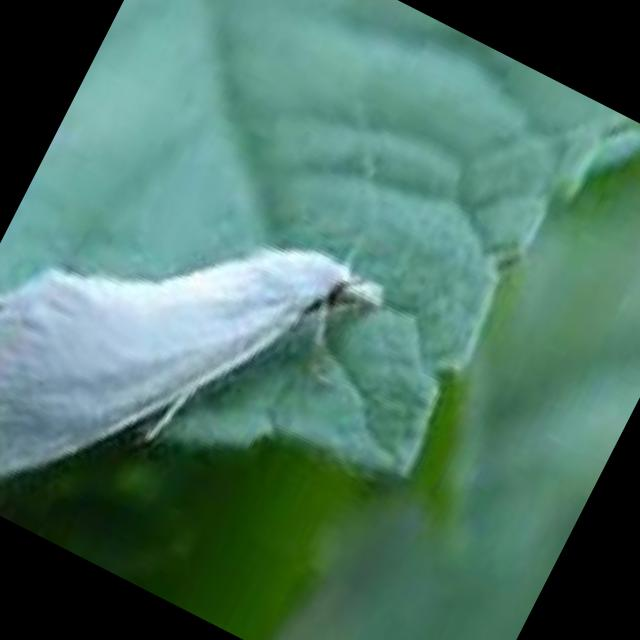stem-borer: (0, 104, 404, 630)
